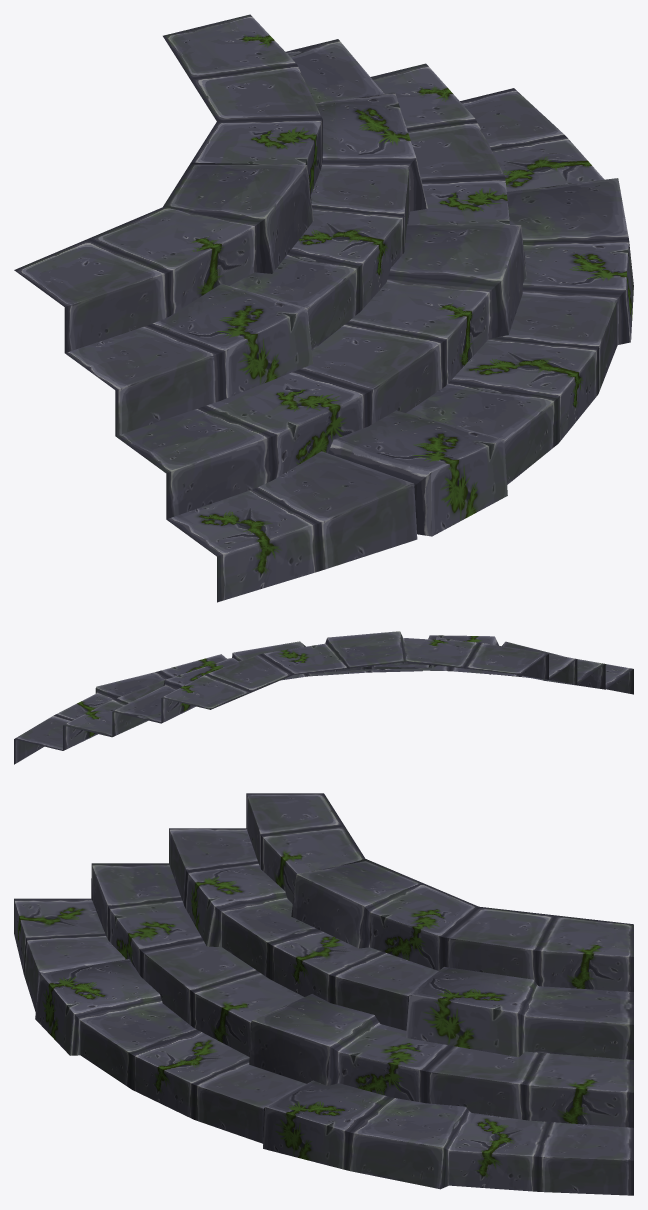
File: MOD_Stairs_01_E_convex_5.fbx
3 views of the same model, one above another, from view 1: azimuth 30°, elevation 25°; view 2: azimuth 150°, elevation 25°; view 3: azimuth 270°, elevation 25° (orthographic). The views are drawn at different scales.
Parts seen in each view (by area): view 1: MOD_Stairs_01_E_convex_5; view 2: MOD_Stairs_01_E_convex_5; view 3: MOD_Stairs_01_E_convex_5.
Part boxes in pixels (left/top/right/bottom): MOD_Stairs_01_E_convex_5: left=14, top=14, right=633, bottom=602; MOD_Stairs_01_E_convex_5: left=14, top=631, right=633, bottom=764; MOD_Stairs_01_E_convex_5: left=14, top=793, right=633, bottom=1195.
Size of what is drawn, in the model's own units: 400 by 104 by 400.
